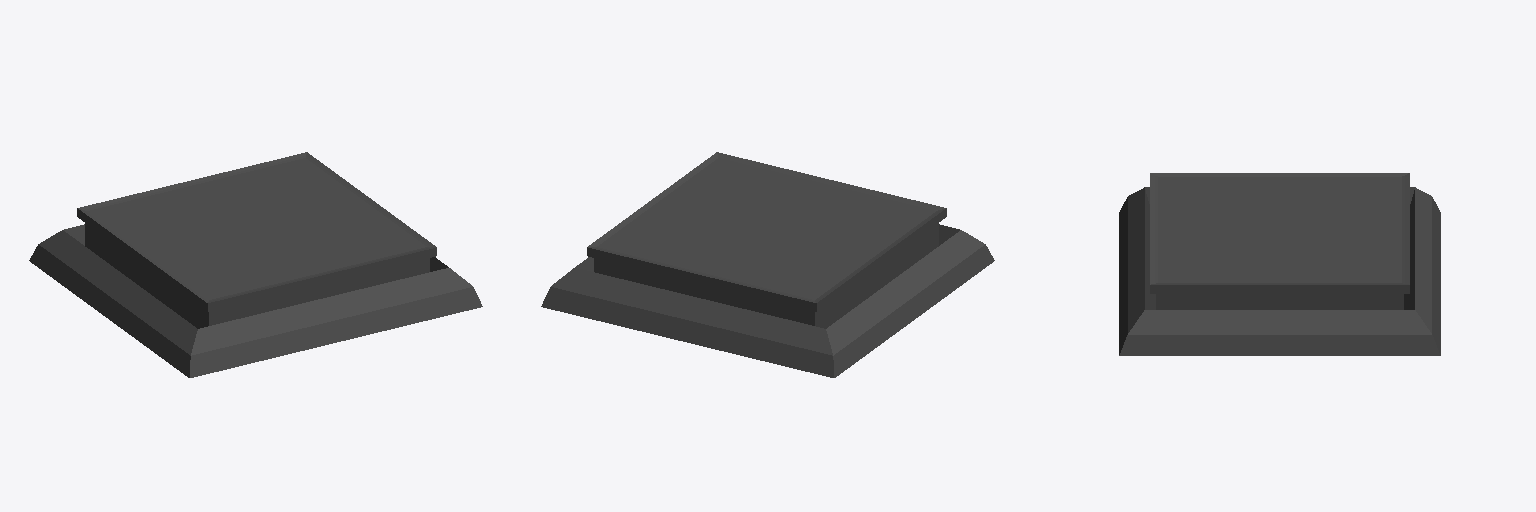
File: Int_Prop_button_2.obj
3 views of the same model, side by side, from view 1: azimuth 30°, elevation 25°; view 2: azimuth 150°, elevation 25°; view 3: azimuth 270°, elevation 25° (orthographic).
Visible parts, largest first — view 1: rectangular_button_2:Box002, rectangular_button_2:Box001; view 2: rectangular_button_2:Box002, rectangular_button_2:Box001; view 3: rectangular_button_2:Box002, rectangular_button_2:Box001.
Part boxes in pixels (bbox=[...]): rectangular_button_2:Box002: bbox=[77, 152, 436, 328]; rectangular_button_2:Box001: bbox=[29, 224, 482, 377]; rectangular_button_2:Box002: bbox=[587, 152, 946, 328]; rectangular_button_2:Box001: bbox=[541, 224, 994, 377]; rectangular_button_2:Box002: bbox=[1150, 173, 1409, 309]; rectangular_button_2:Box001: bbox=[1119, 187, 1440, 355].
Bounding box in the file's own units: 30.55 × 5.56 × 28.97.